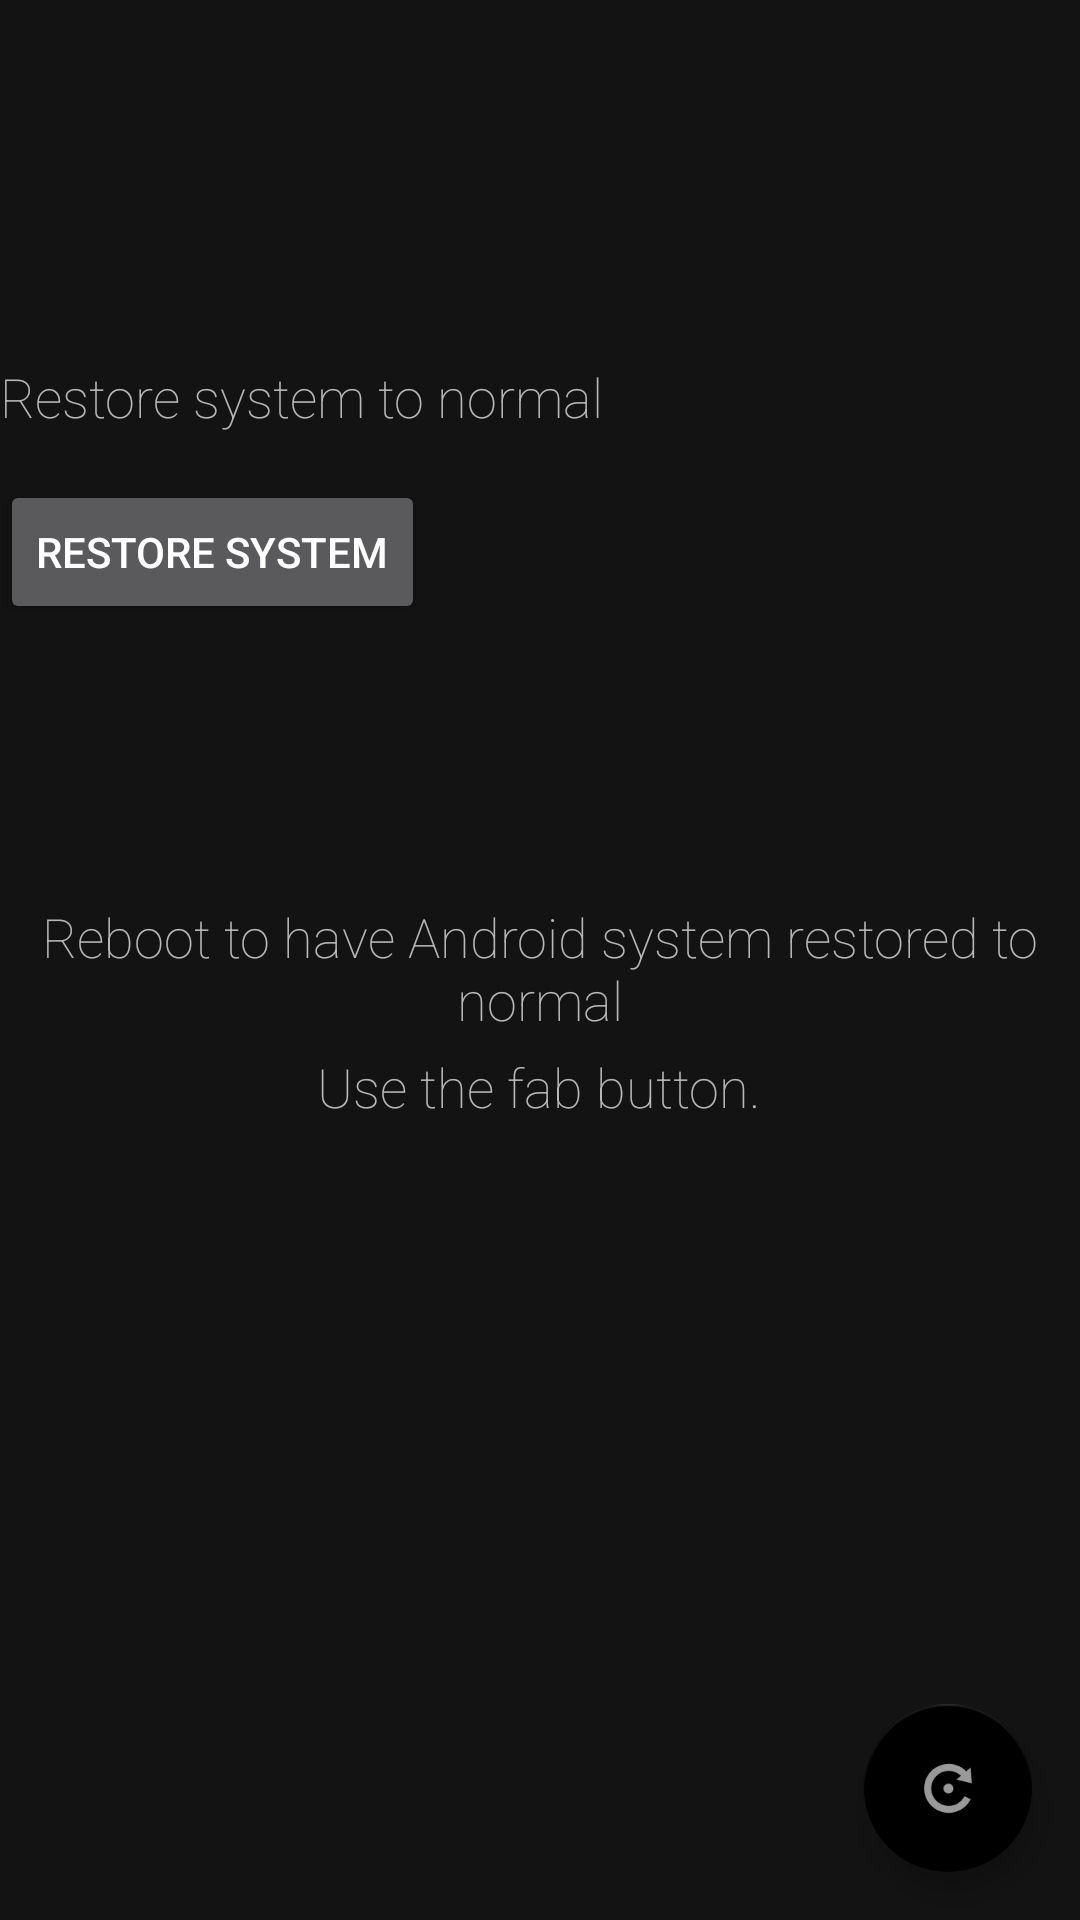

Icon bounding boxes for this 1080 x 1920 phone screenshot, format (x1, y1, x2, y2):
rotate: (864, 1704, 1032, 1872)
